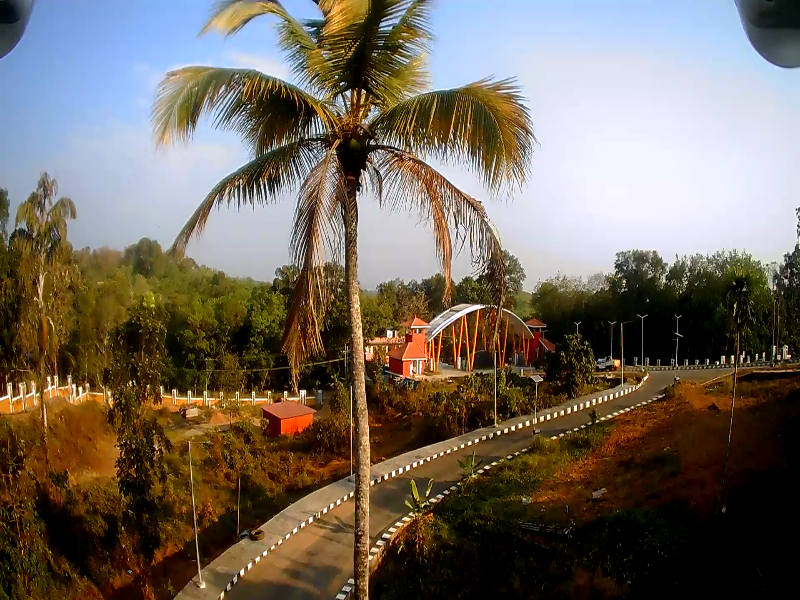coconut: (346, 137, 357, 148)
